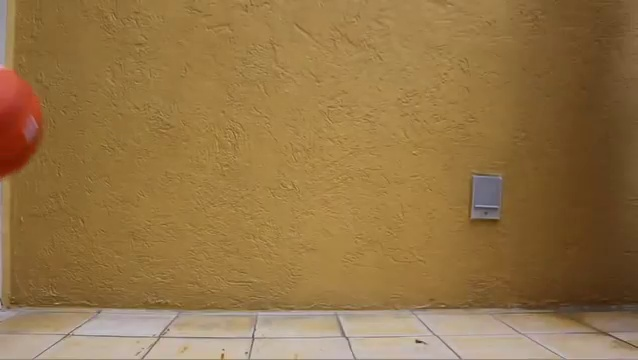ball: (1, 65, 45, 183)
